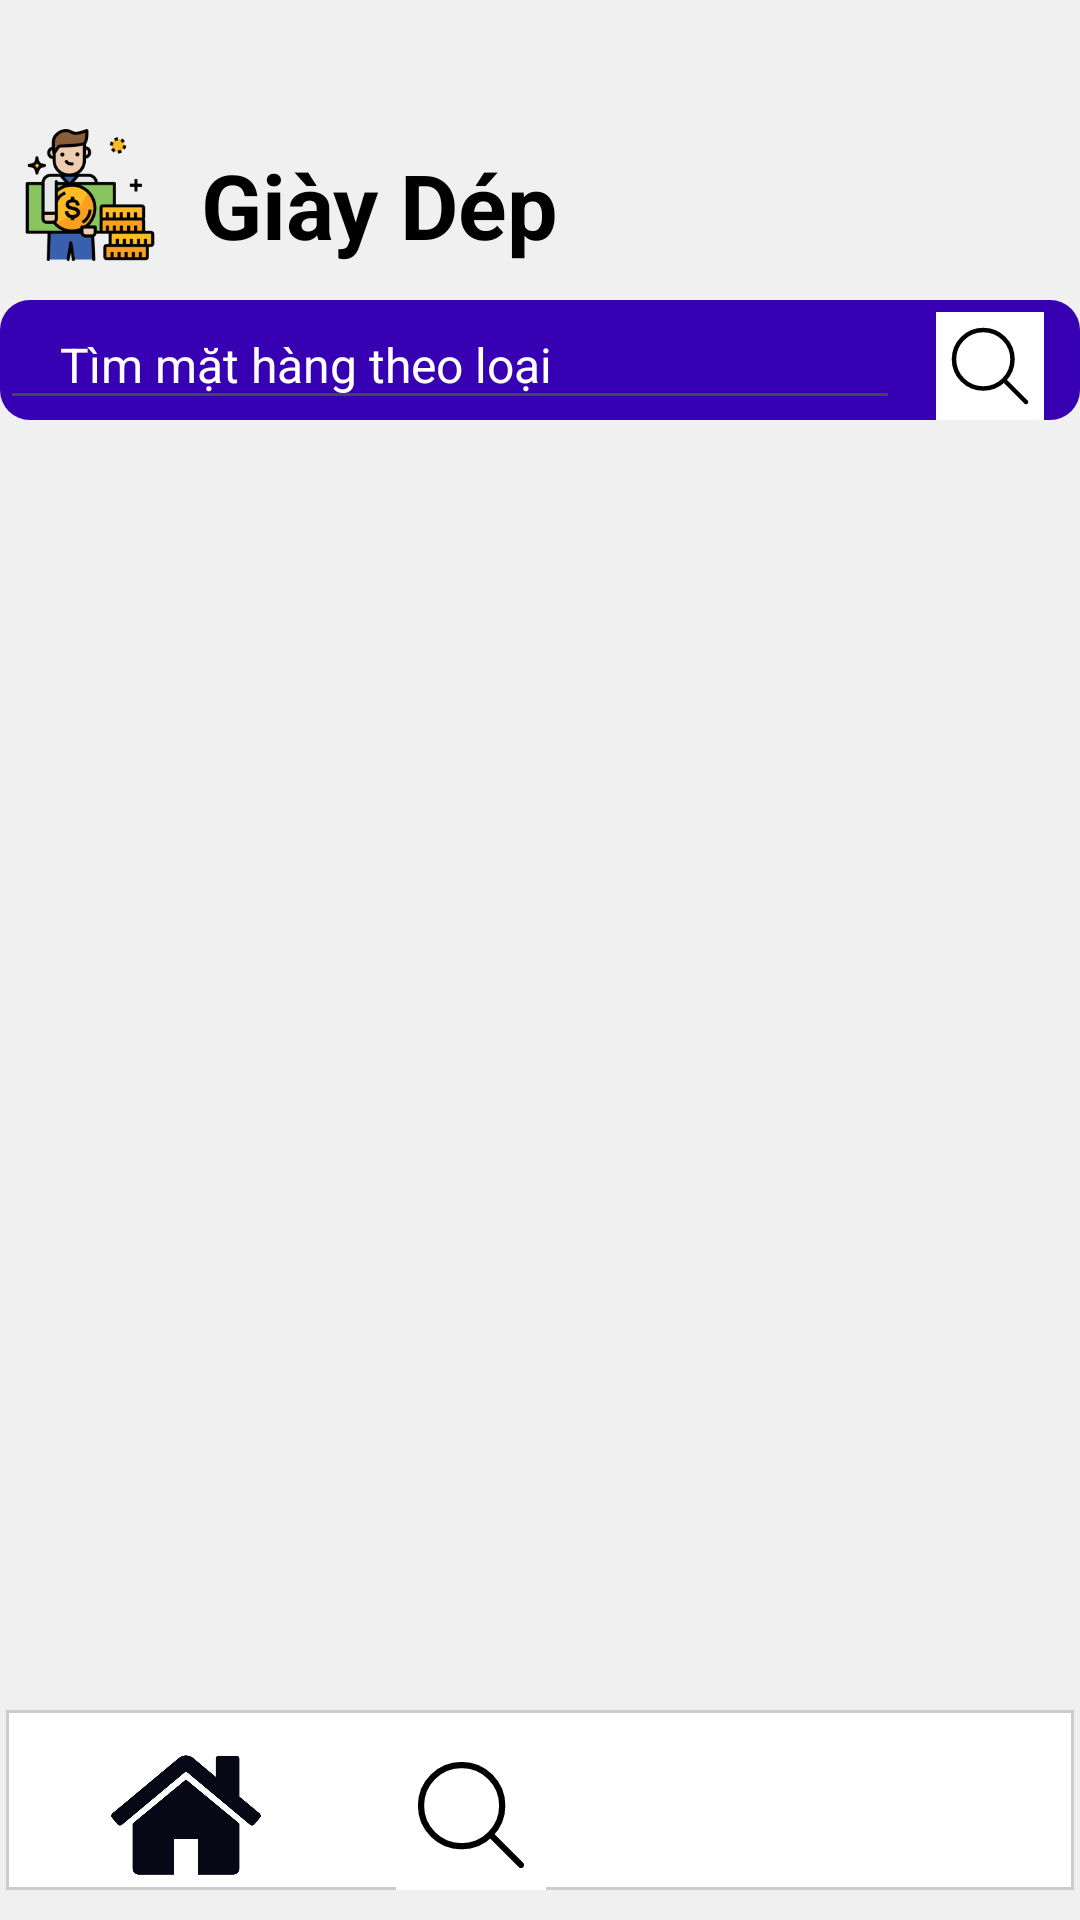

Named icons in this screenshot (1080 × 1920) and their centers, point (x, y):
home: point (186, 1815)
search: point (990, 366), point (471, 1815)
